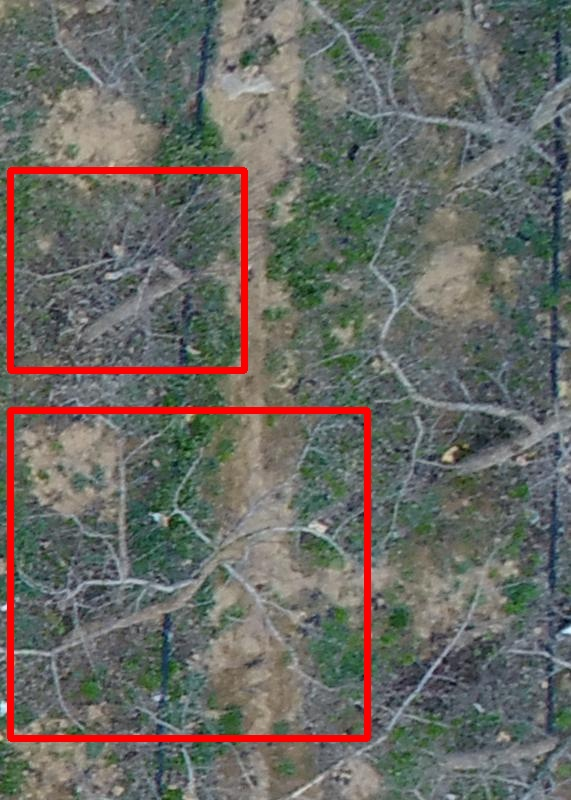apple: (10, 410, 367, 738), (10, 170, 244, 370)
